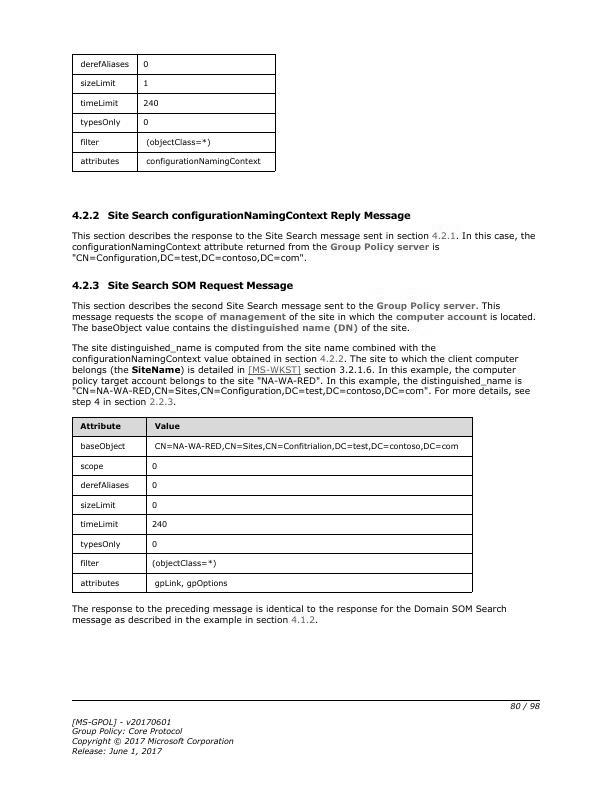table: (72, 417, 475, 594), (72, 54, 278, 174)
text: (69, 340, 533, 409), (69, 230, 538, 264), (70, 299, 539, 333), (68, 601, 507, 627), (68, 714, 239, 756), (70, 208, 412, 224), (69, 279, 295, 294)
